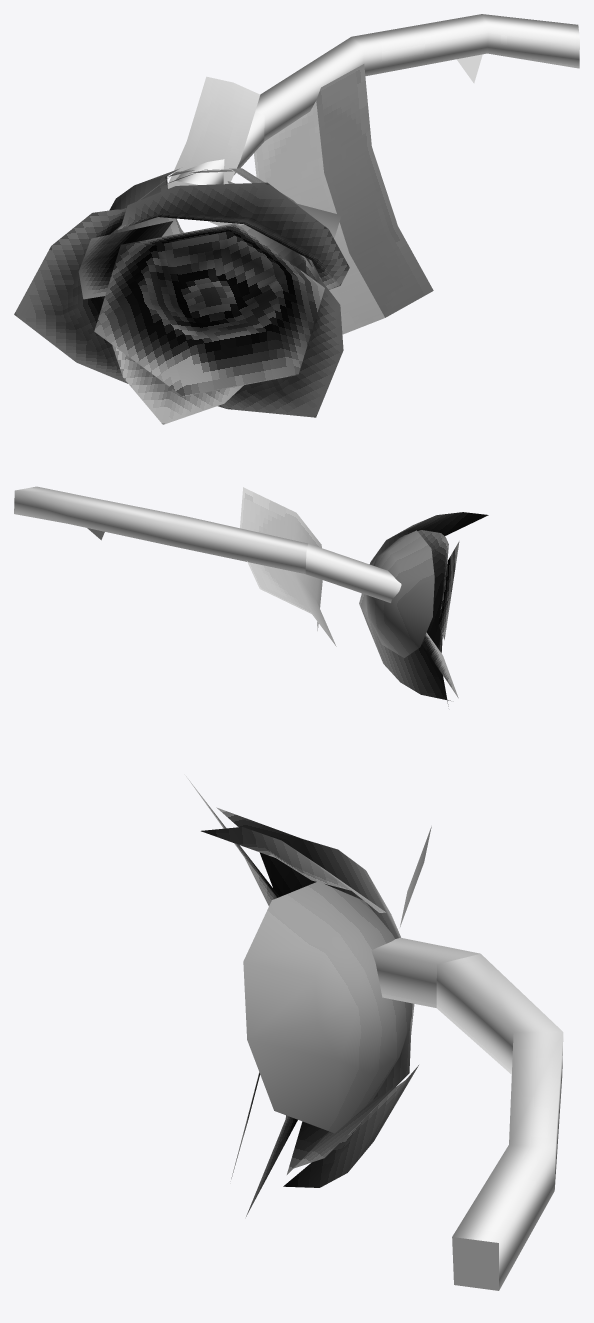
Rendered from AccessoryPltMouthRose.glb.
3 renders of one model, top to bottom at view 1: azimuth 30°, elevation 25°; view 2: azimuth 150°, elevation 25°; view 3: azimuth 270°, elevation 25°, orthographic. The views are drawn at different scales.
Parts seen in each view (by area): view 1: RosePetal46__mRoseAcceBody; view 2: RosePetal46__mRoseAcceBody; view 3: RosePetal46__mRoseAcceBody.
Part boxes in pixels (<box>): RosePetal46__mRoseAcceBody: <box>14,14,579,424</box>; RosePetal46__mRoseAcceBody: <box>14,486,488,706</box>; RosePetal46__mRoseAcceBody: <box>186,776,563,1290</box>.
Size of the model in its own units: 4.88 by 2.2 by 2.22.
Materials: 1 (1 with a texture image).
